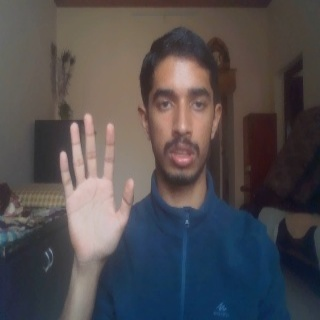Face: (136, 25, 226, 190)
Hello: (58, 111, 135, 264)
